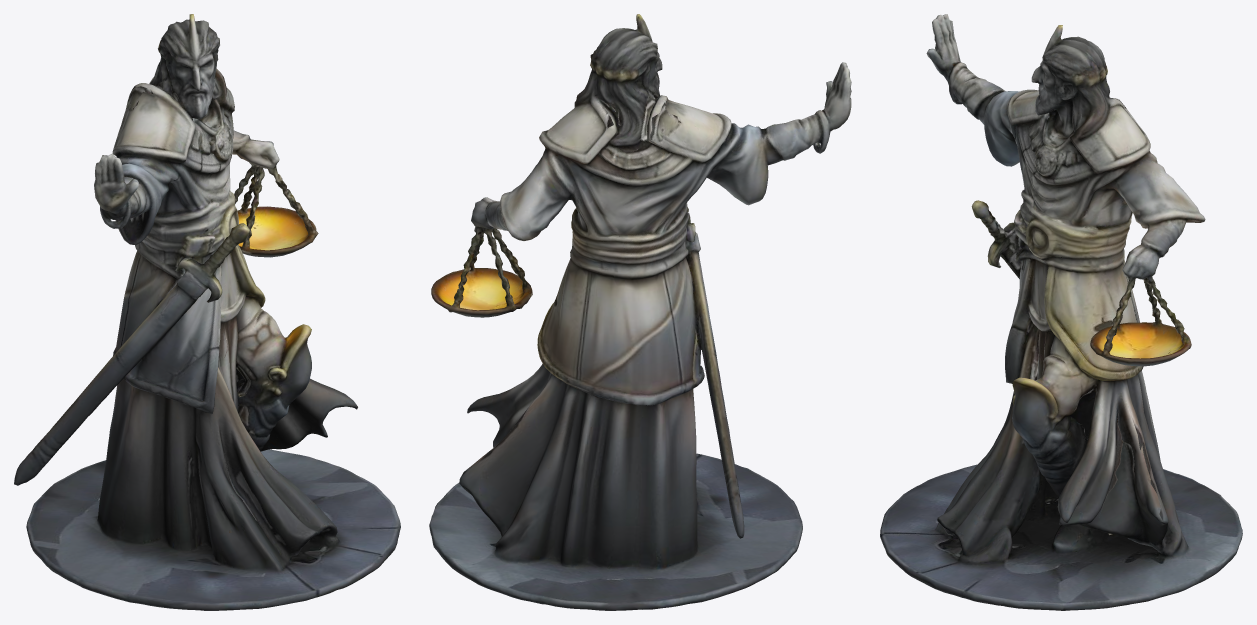
File: Aroden Statue (small)_final.glb
3 views of the same model, side by side, from view 1: azimuth 30°, elevation 25°; view 2: azimuth 150°, elevation 25°; view 3: azimuth 270°, elevation 25° (orthographic). The views are drawn at different scales.
Visible parts, largest first — view 1: Mesh1.0; view 2: Mesh1.0; view 3: Mesh1.0.
Part boxes in pixels (left/top/right/bottom): Mesh1.0: left=14, top=14, right=400, bottom=610; Mesh1.0: left=429, top=14, right=851, bottom=610; Mesh1.0: left=880, top=14, right=1242, bottom=610.
Bounding box in the file's own units: 1.15 × 1.7 × 1.11.
1 material, 1 textured.
